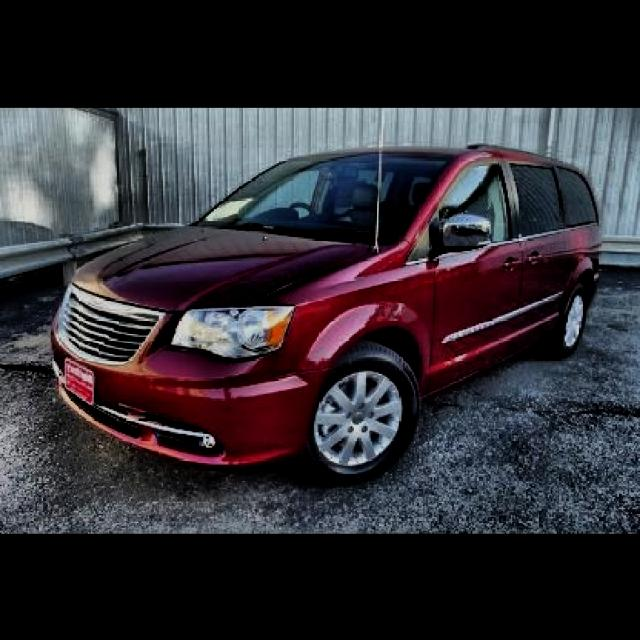maroon: (51, 144, 601, 443)
